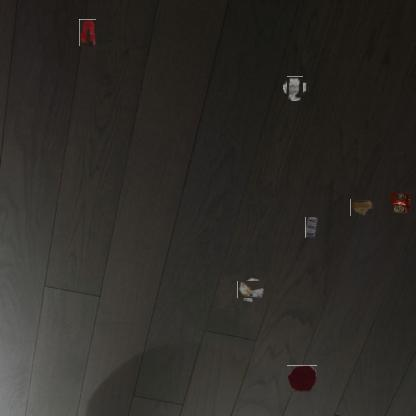dirty: (387, 188, 411, 214), (240, 278, 262, 301), (285, 78, 306, 99), (350, 198, 373, 216), (305, 216, 318, 238)
liquid: (287, 365, 317, 392), (79, 19, 96, 46)
